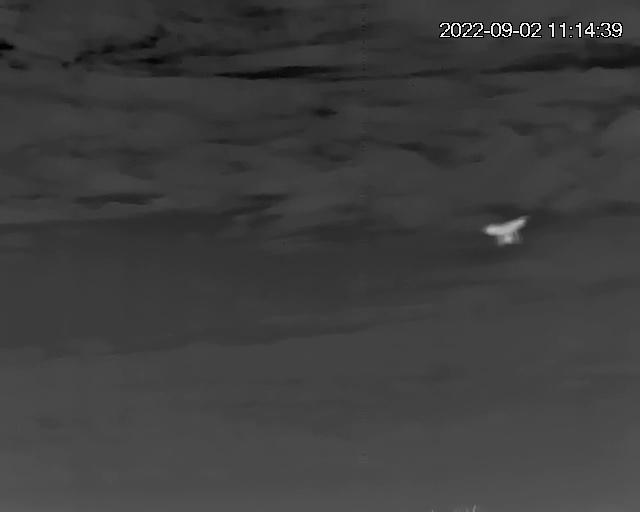DJI-Phantom: (485, 217, 531, 249)
